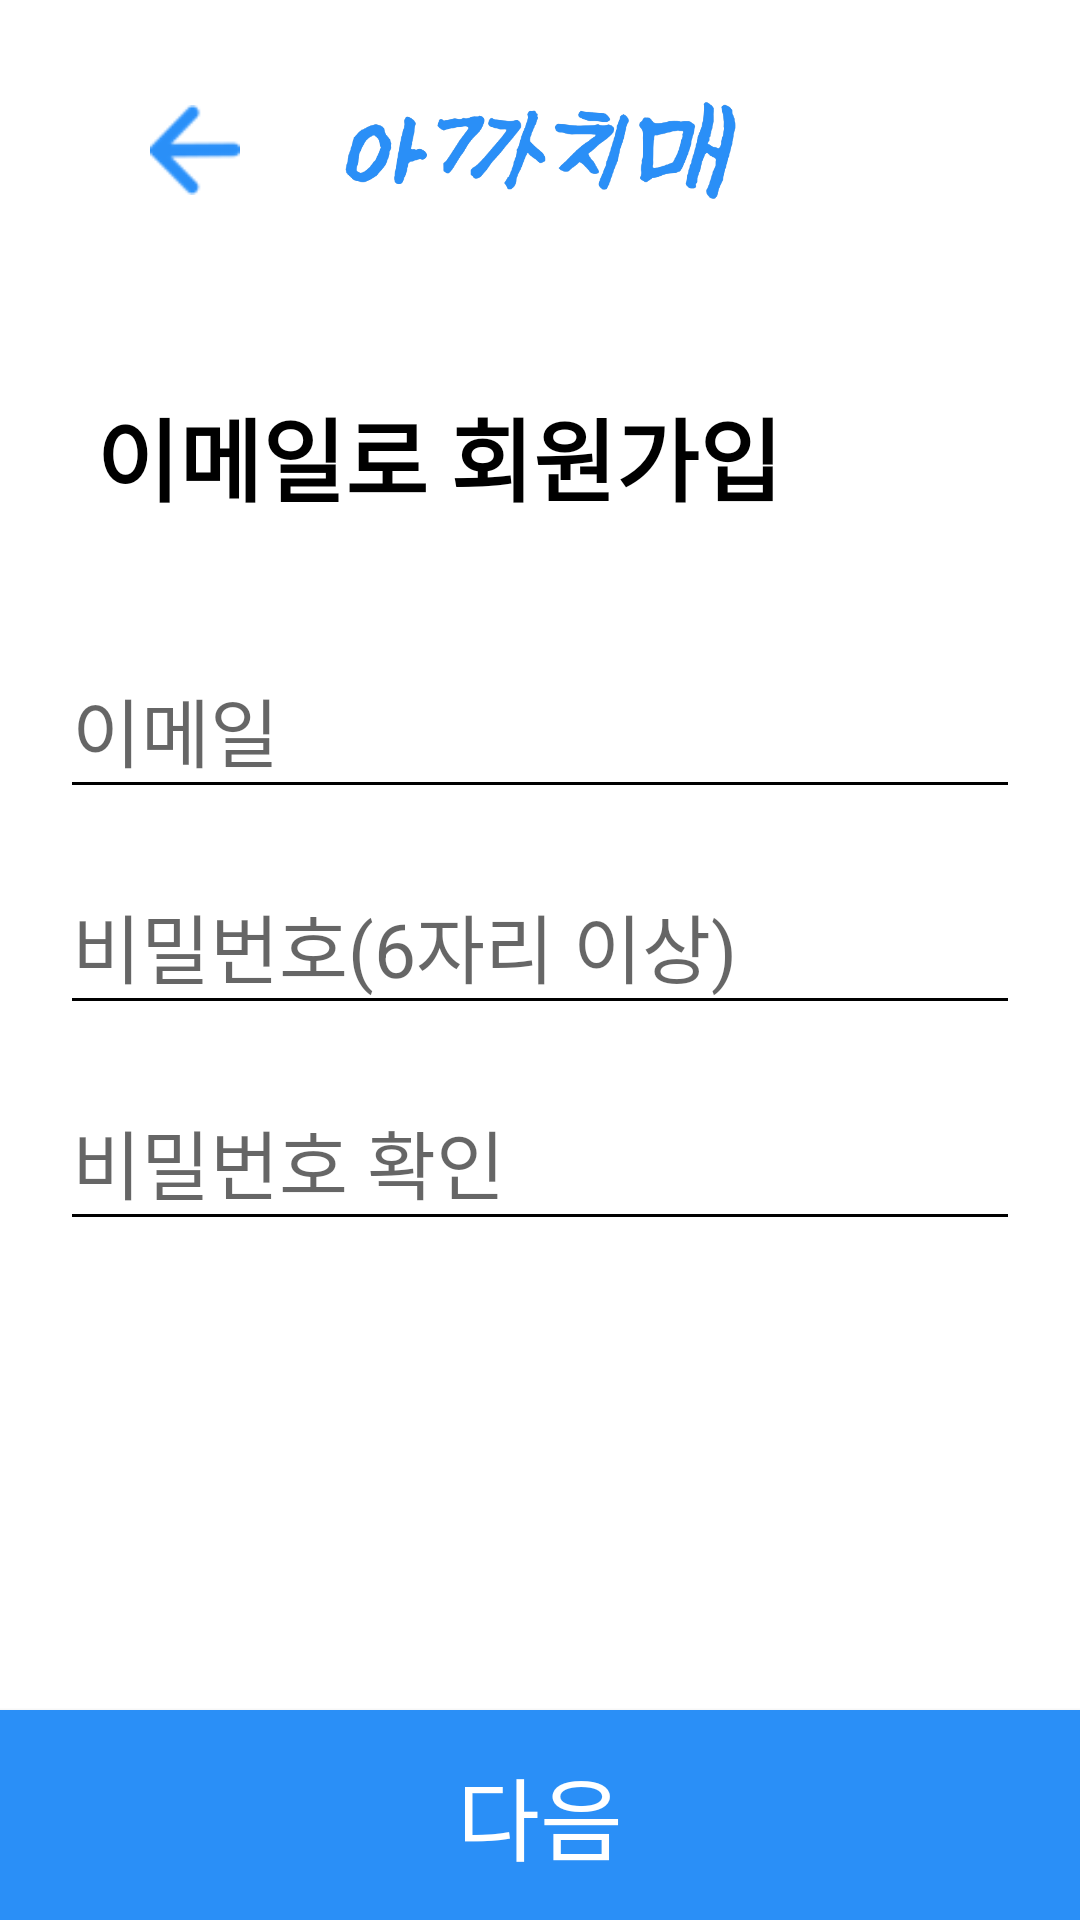

Screen size 1080x1920. Icon name, then its box in pixels as (x1, y1, x2, y2):
back: (150, 105, 240, 195)
